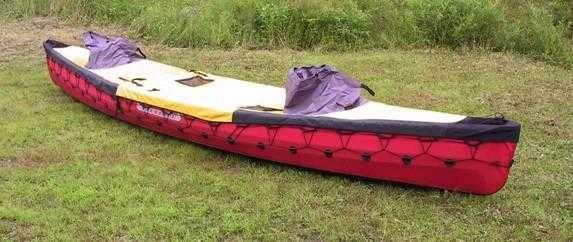kayak: (44, 29, 521, 195)
